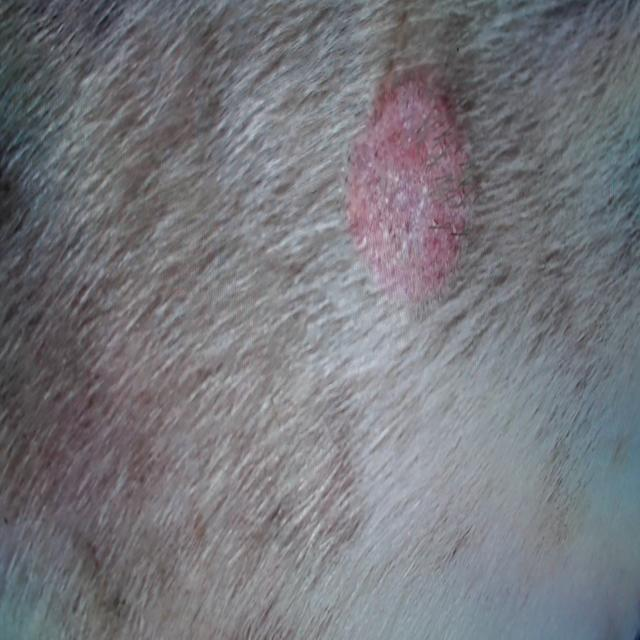ringworm: (325, 58, 513, 332)
